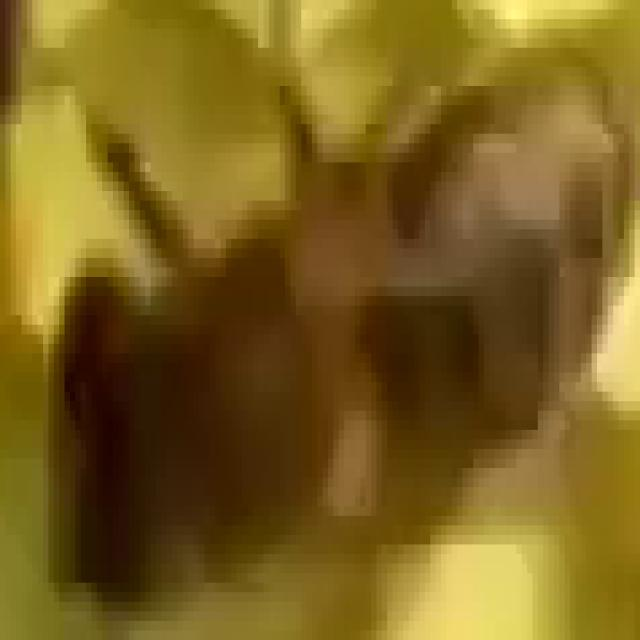honeybee: (50, 90, 586, 543)
